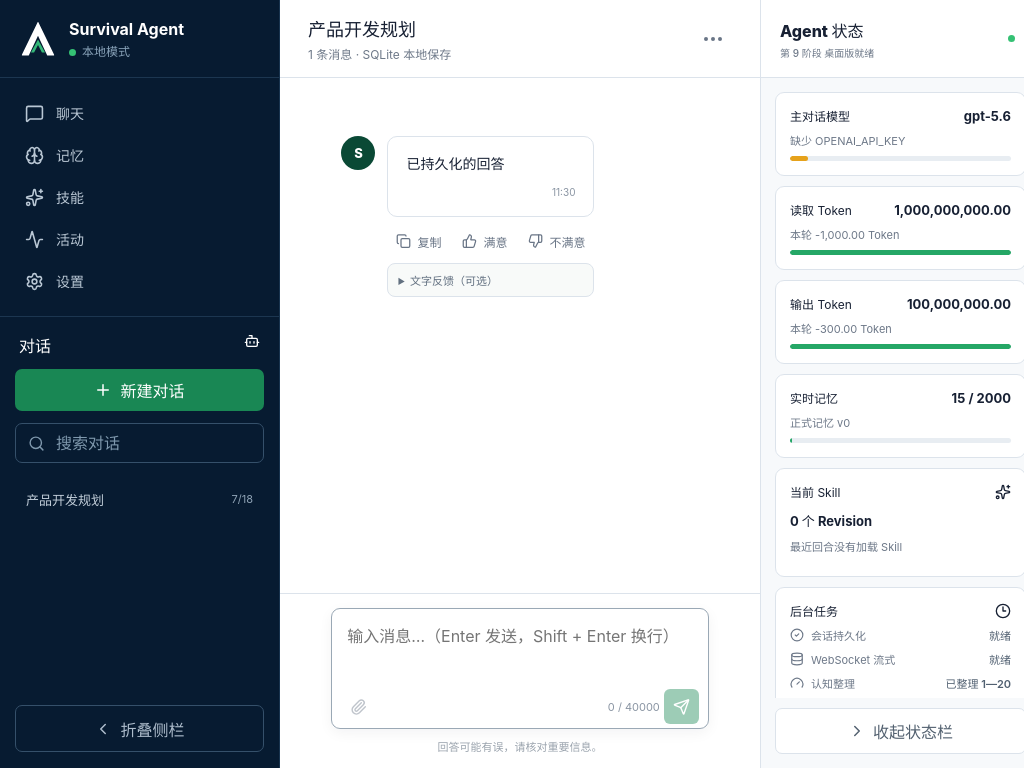
Test: phase 6 application › renders persistent conversation data and the three-column shell
expect the heading "产品开发规划" is shown: met, box x1=308 y1=19 x2=416 y2=40
expect the text "已持久化的回答" is shown: met, box x1=406 y1=155 x2=504 y2=172
Click the button with aria-label "折叠会话栏" at (140,728), box x1=15 y1=705 x2=264 y2=752
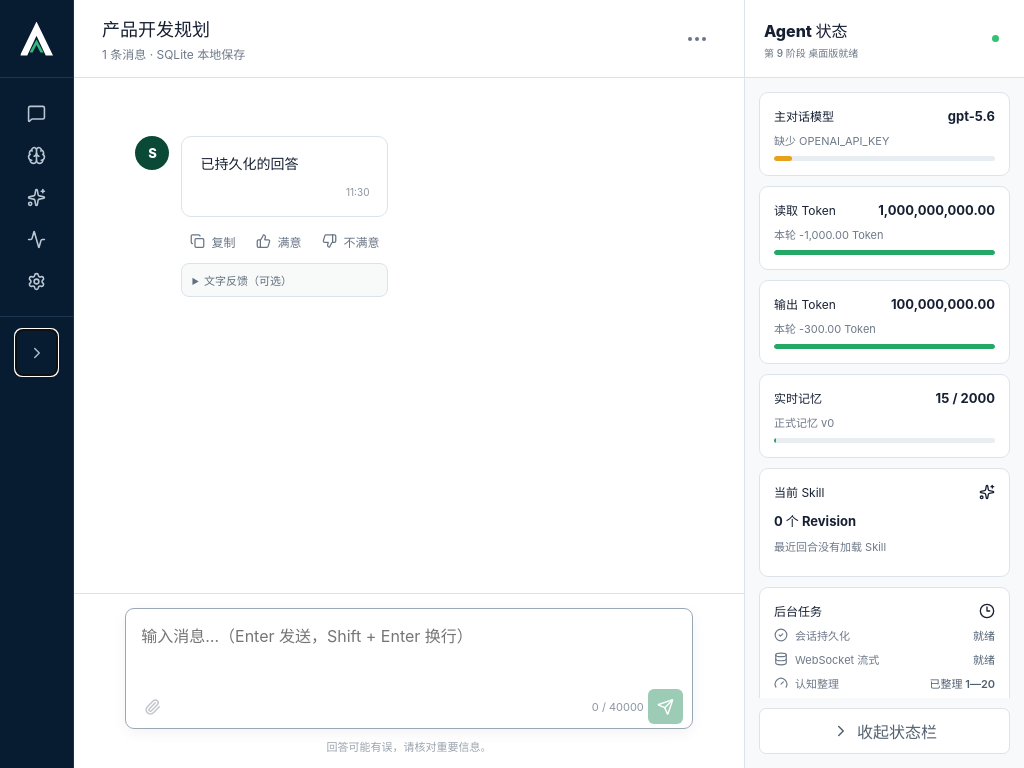
expect the button named "展开会话栏" is shown: met, box x1=15 y1=329 x2=58 y2=376
